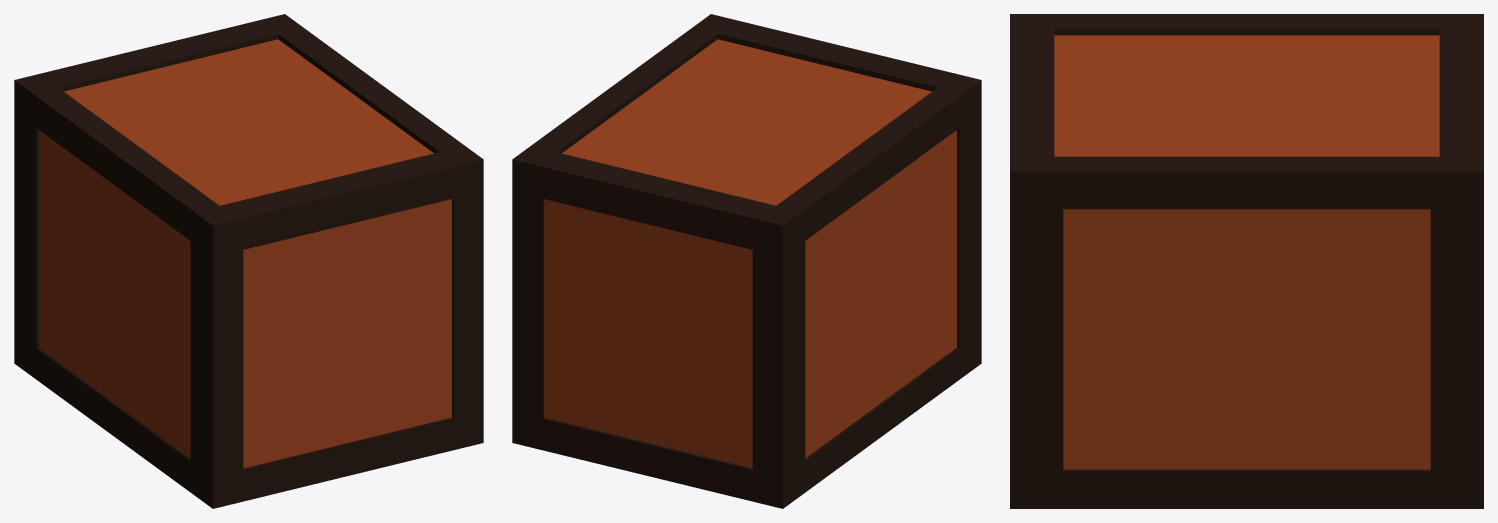
File: closed_crate.fbx
The picture shows the model from 3 angles, left to right: view 1: azimuth 30°, elevation 25°; view 2: azimuth 150°, elevation 25°; view 3: azimuth 270°, elevation 25°; orthographic projection. The views are drawn at different scales.
Visible parts, largest first — view 1: Cube; view 2: Cube; view 3: Cube.
Boxes of the visible parts, x1,y1,x2,y2 form: Cube: [14, 14, 483, 508]; Cube: [512, 14, 981, 508]; Cube: [1010, 14, 1483, 508].
Size of the model in its own units: 200 by 200 by 254.
